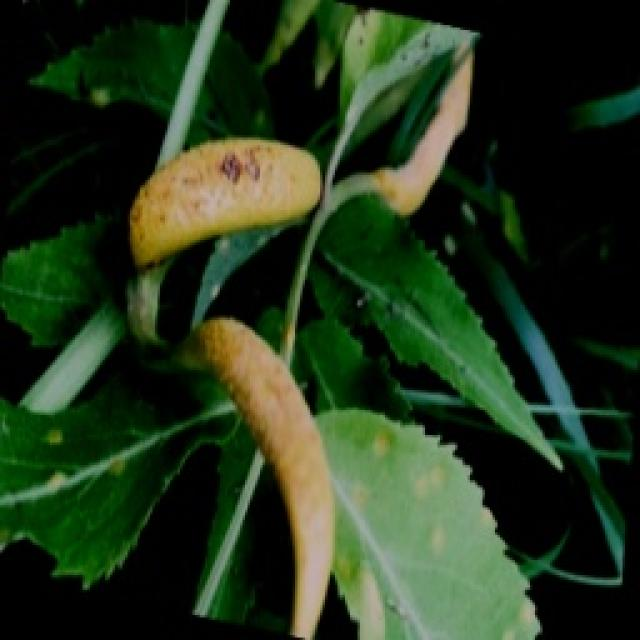Elderberry_rust: (175, 312, 337, 638), (125, 132, 323, 270)
